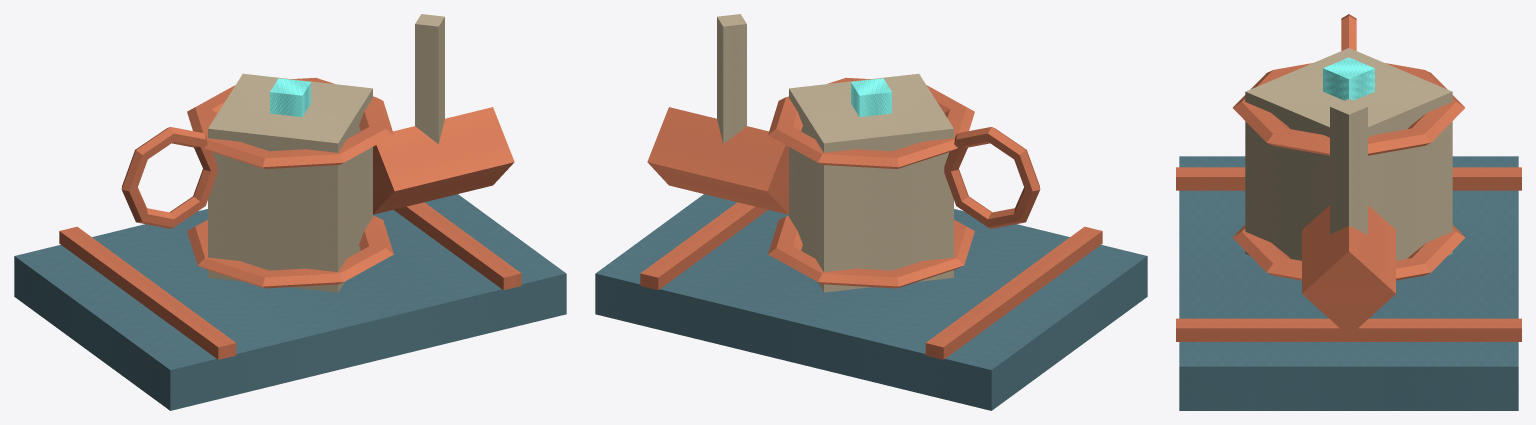
Rendered from atlas100-s042-a02.lod2.glb.
3 renders of one model, left to right at view 1: azimuth 30°, elevation 25°; view 2: azimuth 150°, elevation 25°; view 3: azimuth 270°, elevation 25°, orthographic. The views are drawn at different scales.
Visible parts, largest first — view 1: atlas100-s042-a02:part-000, atlas100-s042-a02:part-003, atlas100-s042-a02:part-007, atlas100-s042-a02:part-001, atlas100-s042-a02:part-005, atlas100-s042-a02:part-004, atlas100-s042-a02:part-009, atlas100-s042-a02:part-008, atlas100-s042-a02:part-002, atlas100-s042-a02:part-006; view 2: atlas100-s042-a02:part-000, atlas100-s042-a02:part-003, atlas100-s042-a02:part-007, atlas100-s042-a02:part-001, atlas100-s042-a02:part-005, atlas100-s042-a02:part-004, atlas100-s042-a02:part-009, atlas100-s042-a02:part-008, atlas100-s042-a02:part-002, atlas100-s042-a02:part-006; view 3: atlas100-s042-a02:part-000, atlas100-s042-a02:part-003, atlas100-s042-a02:part-007, atlas100-s042-a02:part-002, atlas100-s042-a02:part-005, atlas100-s042-a02:part-008, atlas100-s042-a02:part-001, atlas100-s042-a02:part-004, atlas100-s042-a02:part-006, atlas100-s042-a02:part-009.
Boxes of the visible parts, left/top/right/bottom form: atlas100-s042-a02:part-000: left=14, top=194, right=566, bottom=410; atlas100-s042-a02:part-003: left=208, top=73, right=372, bottom=292; atlas100-s042-a02:part-007: left=373, top=107, right=514, bottom=214; atlas100-s042-a02:part-001: left=59, top=226, right=236, bottom=359; atlas100-s042-a02:part-005: left=187, top=77, right=393, bottom=168; atlas100-s042-a02:part-004: left=187, top=215, right=393, bottom=288; atlas100-s042-a02:part-009: left=121, top=127, right=217, bottom=228; atlas100-s042-a02:part-008: left=415, top=14, right=444, bottom=143; atlas100-s042-a02:part-002: left=394, top=202, right=521, bottom=290; atlas100-s042-a02:part-006: left=270, top=78, right=310, bottom=117; atlas100-s042-a02:part-000: left=595, top=194, right=1147, bottom=410; atlas100-s042-a02:part-003: left=789, top=73, right=953, bottom=292; atlas100-s042-a02:part-007: left=647, top=107, right=788, bottom=214; atlas100-s042-a02:part-001: left=925, top=226, right=1102, bottom=359; atlas100-s042-a02:part-005: left=768, top=77, right=974, bottom=168; atlas100-s042-a02:part-004: left=768, top=215, right=974, bottom=288; atlas100-s042-a02:part-009: left=944, top=127, right=1040, bottom=228; atlas100-s042-a02:part-008: left=717, top=14, right=746, bottom=143; atlas100-s042-a02:part-002: left=640, top=202, right=767, bottom=290; atlas100-s042-a02:part-006: left=851, top=78, right=891, bottom=117; atlas100-s042-a02:part-000: left=1179, top=156, right=1518, bottom=410; atlas100-s042-a02:part-003: left=1245, top=48, right=1452, bottom=260; atlas100-s042-a02:part-007: left=1302, top=205, right=1395, bottom=335; atlas100-s042-a02:part-002: left=1176, top=318, right=1521, bottom=341; atlas100-s042-a02:part-005: left=1233, top=63, right=1464, bottom=155; atlas100-s042-a02:part-008: left=1330, top=99, right=1367, bottom=234; atlas100-s042-a02:part-001: left=1176, top=167, right=1521, bottom=190; atlas100-s042-a02:part-004: left=1232, top=225, right=1465, bottom=280; atlas100-s042-a02:part-006: left=1323, top=57, right=1374, bottom=100; atlas100-s042-a02:part-009: left=1341, top=14, right=1356, bottom=50.
Bounding box in the file's own units: 2.67 × 1.6 × 1.84.
Materials: 4 (4 with a texture image).
